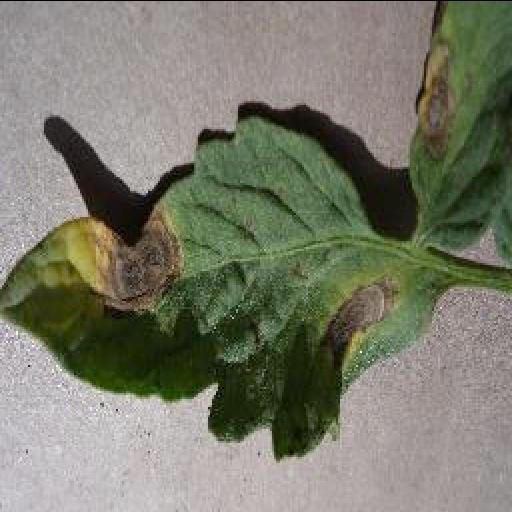disease_tomato: (2, 118, 434, 464)
